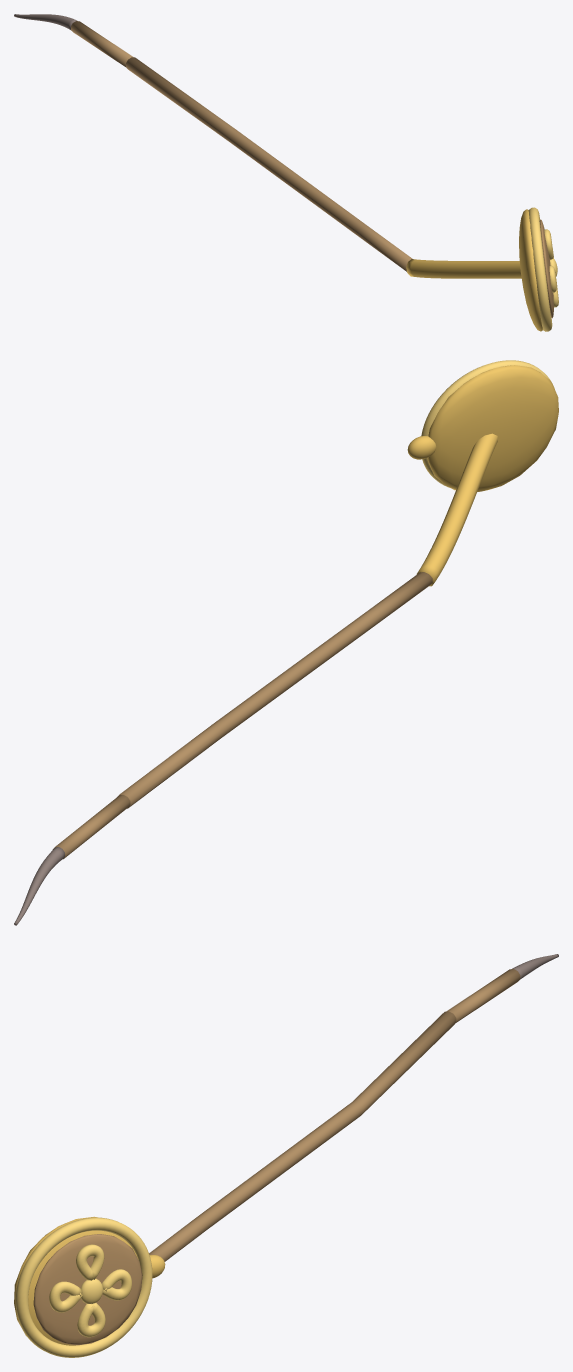
File: side_kuhime_gold_phoenix_pin.glb
3 views of the same model, one above another, from view 1: azimuth 30°, elevation 25°; view 2: azimuth 150°, elevation 25°; view 3: azimuth 330°, elevation 25° (orthographic). The views are drawn at different scales.
Visible parts, largest first — view 1: pin_anchor, gold, gold_rim, recess, plain_tip; view 2: gold, pin_anchor, gold_rim, plain_tip; view 3: gold_rim, pin_anchor, recess, gold.
Boxes of the visible parts, <box> form: pin_anchor: <box>71,21,412,271</box>; gold: <box>406,209,542,331</box>; gold_rim: <box>528,207,558,331</box>; recess: <box>539,219,553,318</box>; plain_tip: <box>14,14,77,29</box>; gold: <box>407,365,558,586</box>; pin_anchor: <box>52,572,432,859</box>; gold_rim: <box>421,360,554,487</box>; plain_tip: <box>14,847,64,925</box>; gold_rim: <box>15,1217,152,1357</box>; pin_anchor: <box>149,969,520,1261</box>; recess: <box>33,1234,142,1345</box>; gold: <box>14,1216,165,1345</box>.
Bounding box in the file's own units: 1.57 × 2.04 × 14.37.
